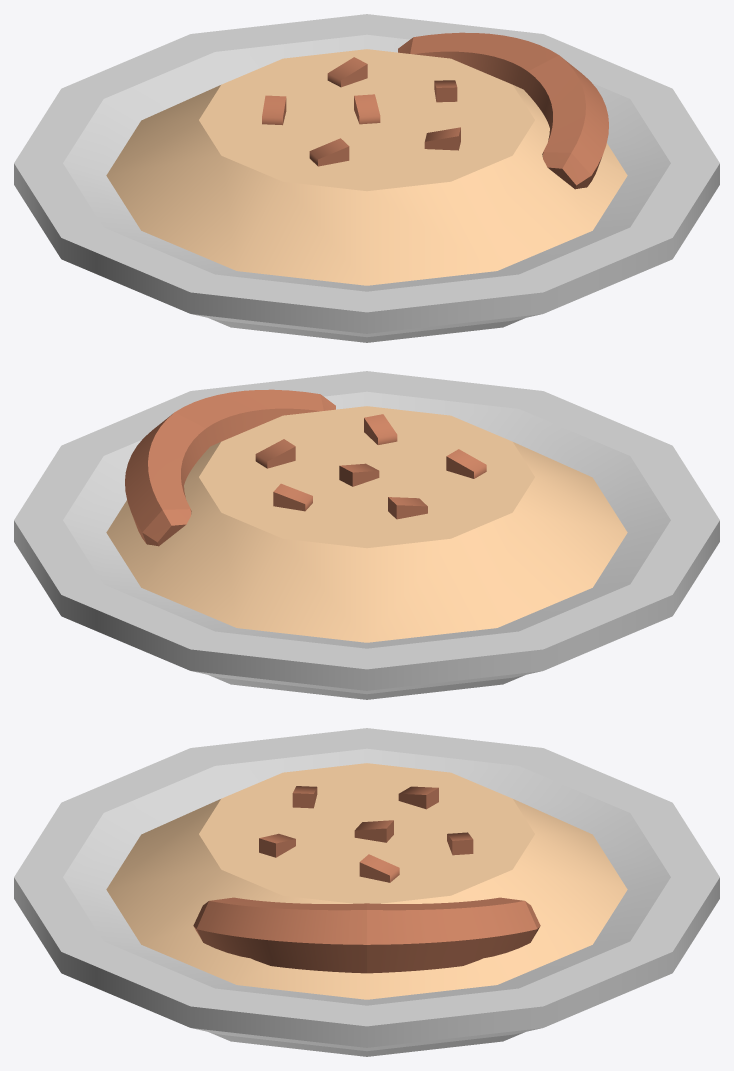
File: plateSauerkraut.obj
3 renders of one model, top to bottom at view 1: azimuth 30°, elevation 25°; view 2: azimuth 150°, elevation 25°; view 3: azimuth 270°, elevation 25°, orthographic.
Parts seen in each view (by area): view 1: plateSauerkraut, sausage; view 2: plateSauerkraut, sausage; view 3: plateSauerkraut, sausage.
Boxes of the visible parts, x1,y1,x2,y2 form: plateSauerkraut: (14, 14, 719, 342); sausage: (398, 32, 608, 189); plateSauerkraut: (14, 371, 719, 699); sausage: (125, 389, 335, 546); plateSauerkraut: (14, 728, 719, 1056); sausage: (193, 897, 540, 973).
Bounding box in the file's own units: 0.8918 × 0.1752 × 0.8918.
